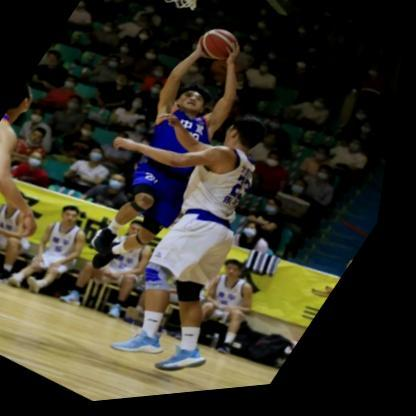basketball: (193, 24, 247, 72)
rim: (109, 0, 231, 28)
